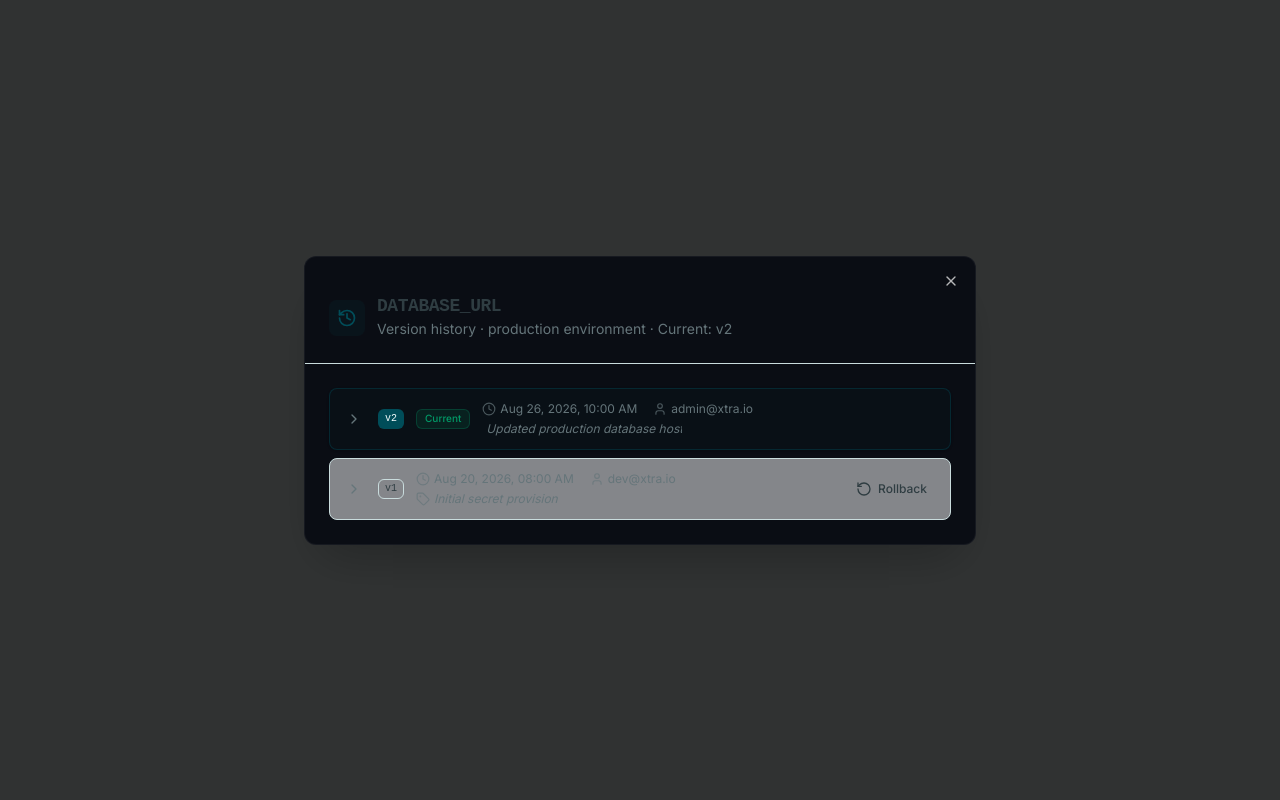
Test case: Frontend SecretHistoryModal Component Integration Tests › 3. Triggers 2-step inline rollback workflow to restore previous version v1
Later steps or results of the test are not shown.
Expected: the text "v1" is shown, top-left (378, 478), bottom-right (404, 498)
// 1st Click on Rollback button triggers confirmation state
Click the button "Rollback".
click(892, 488)  # box top-left (845, 472), bottom-right (938, 504)
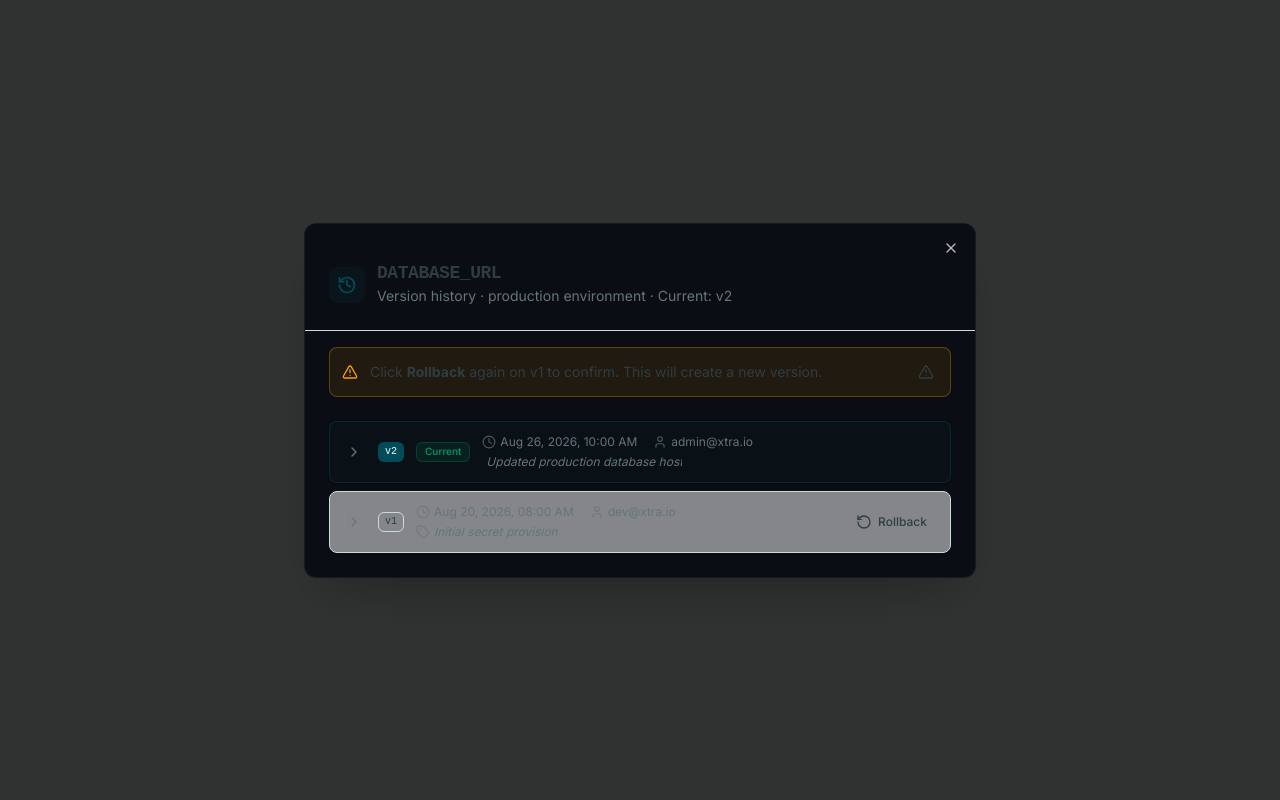
Expected: the text "Click" is shown, top-left (370, 362), bottom-right (407, 380)
Expected: the text "again on v" is shown, top-left (465, 362), bottom-right (538, 380)
